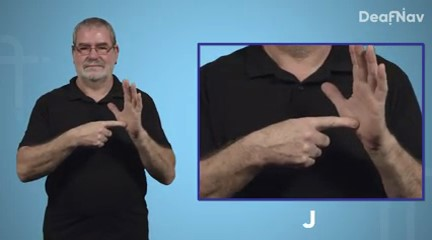J: (68, 77, 146, 151)
